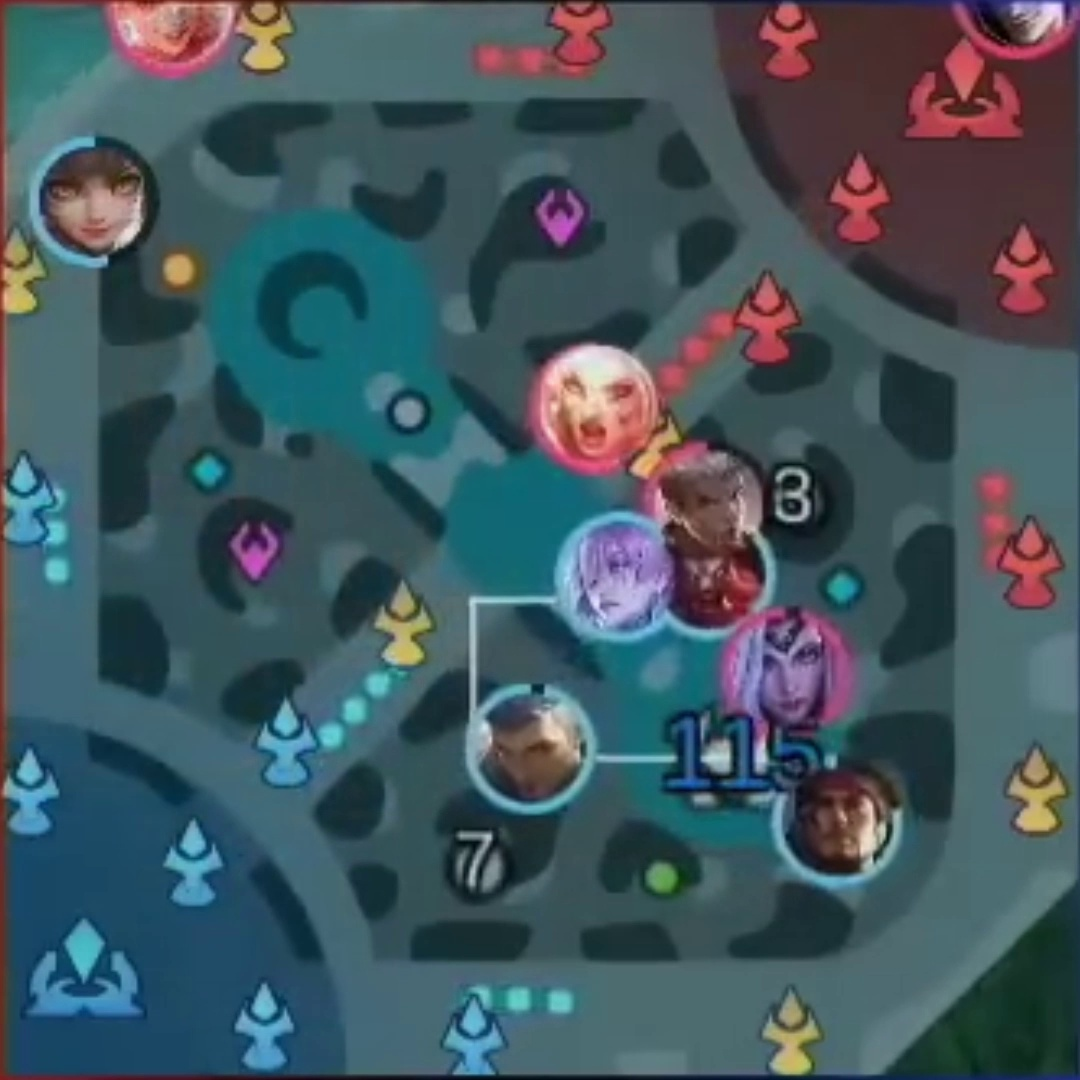Chou: (666, 459, 755, 549)
Claude: (986, 1, 1064, 46)
Fanny: (126, 3, 218, 57)
Fredrinn: (482, 702, 579, 800)
Lapu-Lapu: (800, 773, 889, 867)
Masha: (548, 358, 640, 457)
Minotaur: (677, 558, 757, 627)
Novaria: (573, 530, 665, 628)
Valentina: (746, 632, 839, 721)
Wanwan: (48, 153, 147, 249)
